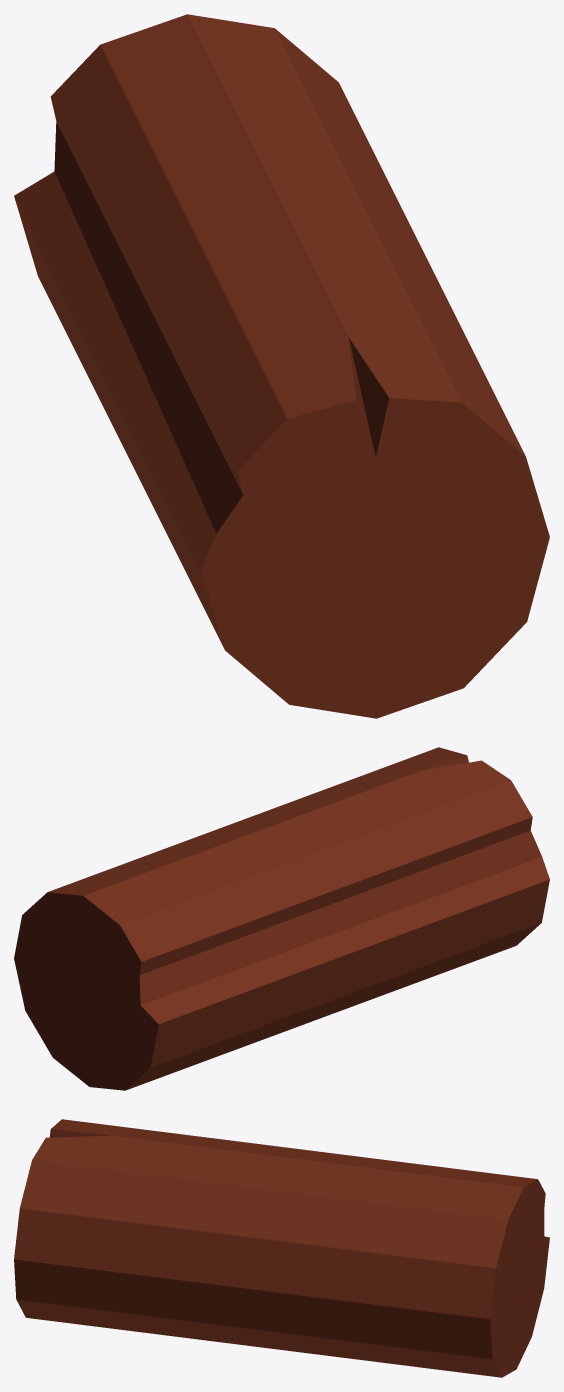
File: BrokenWood_03.fbx
3 renders of one model, top to bottom at view 1: azimuth 30°, elevation 25°; view 2: azimuth 150°, elevation 25°; view 3: azimuth 270°, elevation 25°, orthographic. The views are drawn at different scales.
Parts seen in each view (by area): view 1: brokenwood_03; view 2: brokenwood_03; view 3: brokenwood_03.
Boxes of the visible parts, box(x1,y1,x2,y2) form: brokenwood_03: box(14, 14, 549, 718); brokenwood_03: box(14, 747, 549, 1090); brokenwood_03: box(14, 1119, 549, 1377).
Bounding box in the file's own units: 123 × 73.71 × 191.
